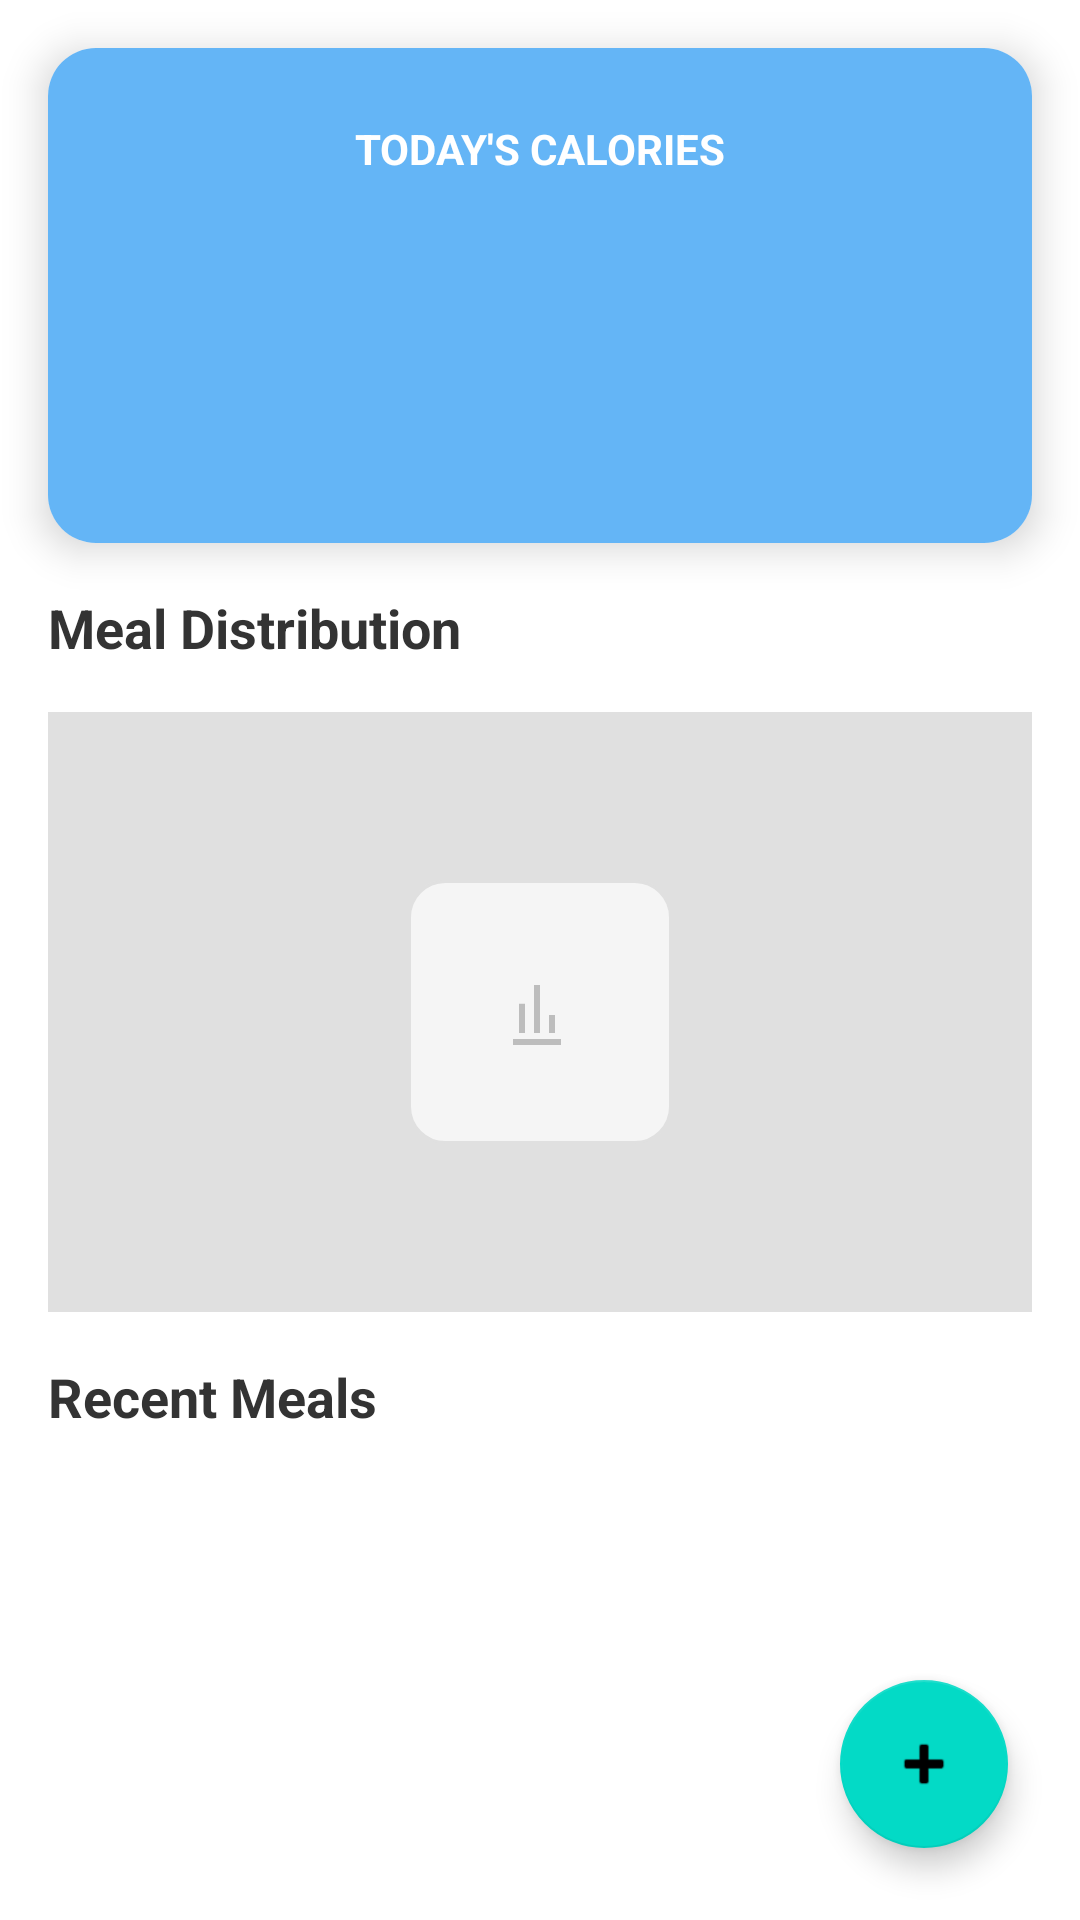

Icons on this 1080px x 1920px Android screen, each with the point to tap as [x,y]:
Add new food entry: [924,1764]
